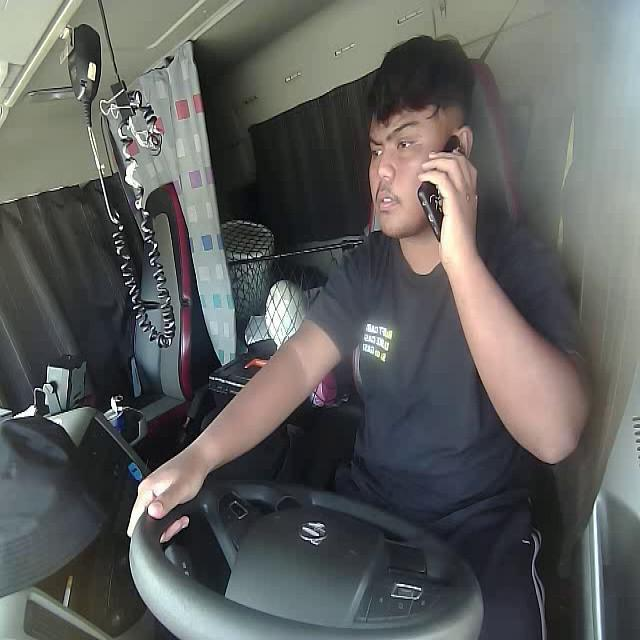phone: (419, 133, 475, 240)
